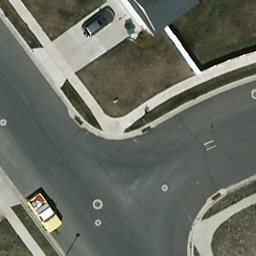car: (81, 4, 120, 39)
pickup: (23, 193, 62, 232)
